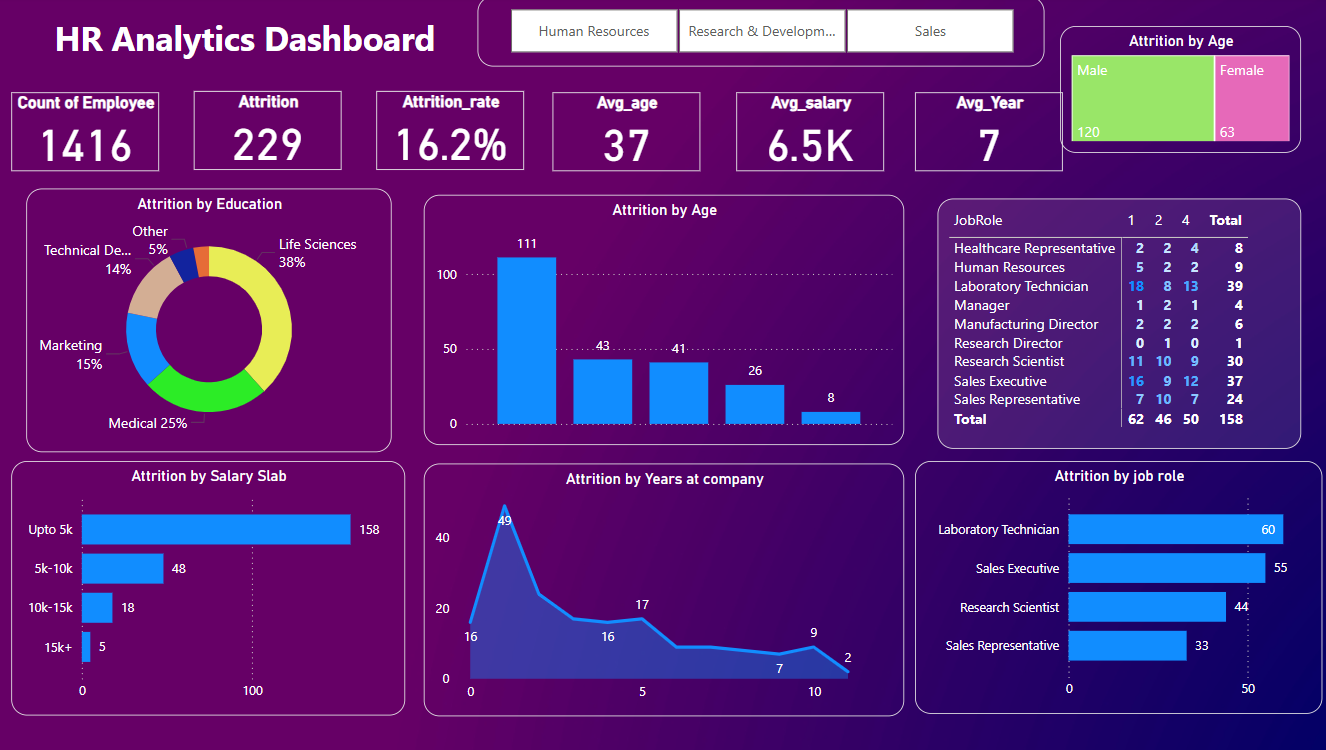

The dashboard page shown, as its layout file describes it:
{"tool":"powerbi","page":{"name":"Page 1","canvas":[1280,720],"ordinal":0},"visuals":[{"type":"card","title":"Count of Employee","fields":{"Values":["CountNonNull(HR_Analytics.EmpID)"]},"box":[20,91.8,141.1,75.5],"z":0},{"type":"card","title":"Attrition","fields":{"Values":["Sum(HR_Analytics.Custom)"]},"box":[193.9,90.4,141.1,75.5],"z":1000},{"type":"card","title":"Attrition_rate","fields":{"Values":["HR_Analytics.Attrition_rate"]},"box":[367.8,90.4,141.1,75.5],"z":2000},{"type":"card","title":"Avg_age","fields":{"Values":["Avg(HR_Analytics.Age)"]},"box":[535.9,91.8,141.1,75.5],"z":3000},{"type":"card","title":"Avg_Year","fields":{"Values":["Avg(HR_Analytics.YearsAtCompany)"]},"box":[880.9,91.8,141.1,75.5],"z":4000},{"type":"card","title":"Avg_salary","fields":{"Values":["Avg(HR_Analytics.MonthlyIncome)"]},"box":[711.3,91.8,141.1,75.5],"z":5000},{"type":"donutChart","title":"Attrition by Education","fields":{"Category":["HR_Analytics.EducationField"],"Y":["Sum(HR_Analytics.Attribute-count)"]},"box":[34.2,183.9,347.8,250.9],"z":6000},{"type":"columnChart","title":"Attrition by Age","fields":{"Category":["HR_Analytics.AgeGroup"],"Y":["Sum(HR_Analytics.Attribute-count)"]},"box":[413.4,189.6,457.6,238],"z":7000},{"type":"pivotTable","fields":{"Rows":["HR_Analytics.JobRole"],"Columns":["HR_Analytics.JobSatisfaction"],"Values":["Sum(HR_Analytics.Attribute-count)"]},"box":[902.3,192.4,346.4,238],"z":8000},{"type":"barChart","title":"Attrition by Salary Slab","fields":{"Category":["HR_Analytics.SalarySlab"],"Y":["Sum(HR_Analytics.Attribute-count)"]},"box":[20,443.3,374.9,242.3],"z":9000},{"type":"barChart","title":"Attrition by job role","fields":{"Category":["HR_Analytics.JobRole"],"Y":["Sum(HR_Analytics.Attribute-count)"]},"box":[880.9,443.3,387.7,240.9],"z":10000},{"type":"areaChart","title":"Attrition by Years at company","fields":{"Category":["HR_Analytics.YearsAtCompany"],"Y":["Sum(HR_Analytics.Attribute-count)"]},"box":[413.4,444.7,457.6,240.9],"z":11000},{"type":"treemap","title":"Attrition by Age","fields":{"Group":["HR_Analytics.Gender"],"Values":["Sum(HR_Analytics.Attribute-count)"]},"box":[1019.2,28.5,229.5,121.2],"z":11001},{"type":"slicer","fields":{"Values":["HR_Analytics.Department"]},"box":[464.7,0,540.2,67],"z":11002},{"type":"textbox","box":[20,12.8,444.7,54.2],"z":11003}]}

Visuals, with their boxes in screenshot pixels (x1, y1, x2, y2), scaled from the page's 1280x720 canvas onto the 1326x750 screenshot:
"Count of Employee" card: box(21, 96, 167, 174)
"Attrition" card: box(201, 94, 347, 173)
"Attrition_rate" card: box(381, 94, 527, 173)
"Avg_age" card: box(555, 96, 701, 174)
"Avg_Year" card: box(913, 96, 1059, 174)
"Avg_salary" card: box(737, 96, 883, 174)
"Attrition by Education" donutChart: box(35, 192, 396, 453)
"Attrition by Age" columnChart: box(428, 198, 902, 445)
pivotTable - HR_Analytics.JobRole x HR_Analytics.JobSatisfaction: box(935, 200, 1294, 448)
"Attrition by Salary Slab" barChart: box(21, 462, 409, 714)
"Attrition by job role" barChart: box(913, 462, 1314, 713)
"Attrition by Years at company" areaChart: box(428, 463, 902, 714)
"Attrition by Age" treemap: box(1056, 30, 1294, 156)
slicer - HR_Analytics.Department: box(481, 0, 1041, 70)
textbox: box(21, 13, 481, 70)
